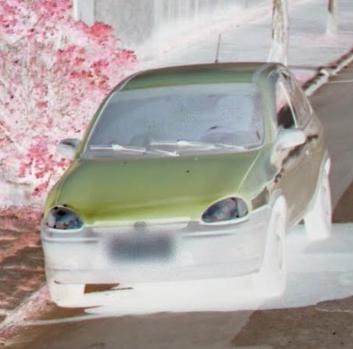car: (40, 62, 333, 307)
